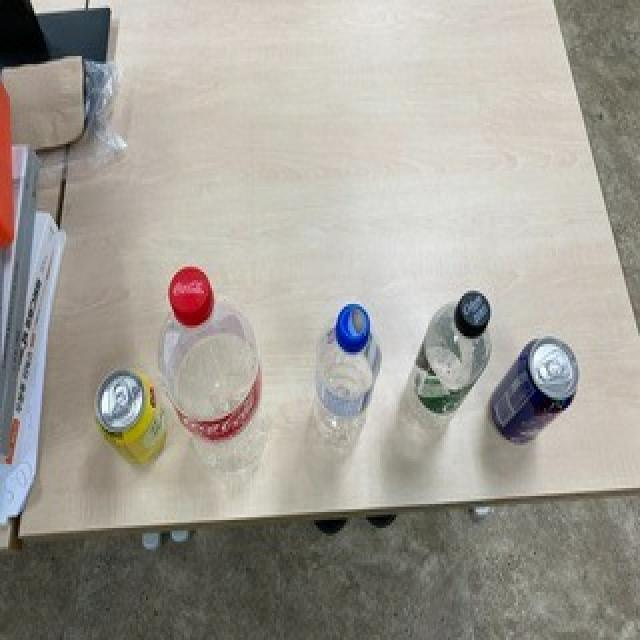good: (155, 260, 271, 490), (396, 282, 494, 474), (310, 298, 386, 474), (491, 332, 583, 458), (91, 362, 169, 474)
